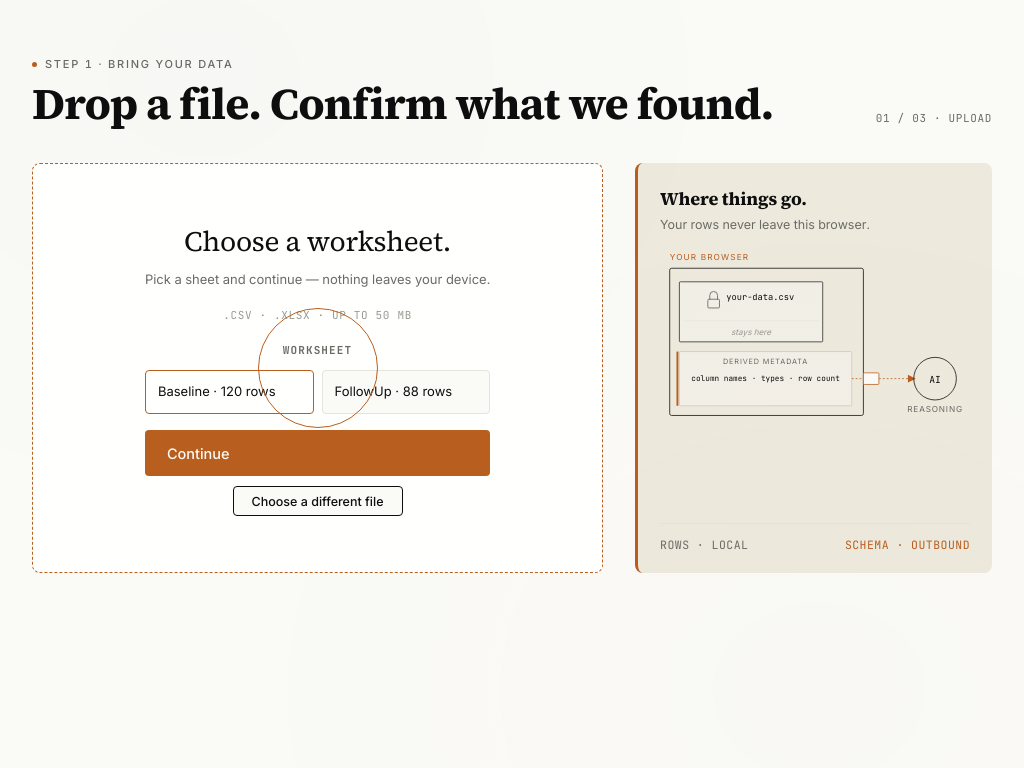
Test case: LOUPE-23 sheetSwitch — mid-flow sheet change › cancels sheet switch and keeps original sheet selected
Click the radio button labelled "FollowUp · 88 rows" at coordinates (406, 392), box [322,370,490,414]
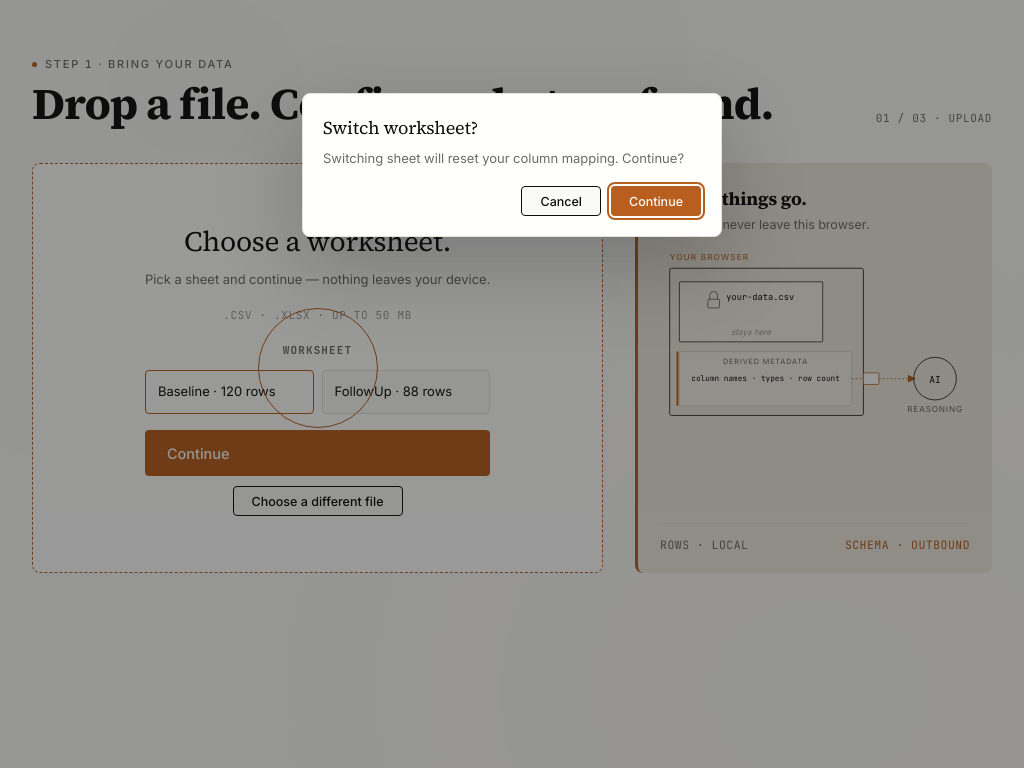
Click the button "Cancel" at coordinates (561, 201), box [522,186,601,216]
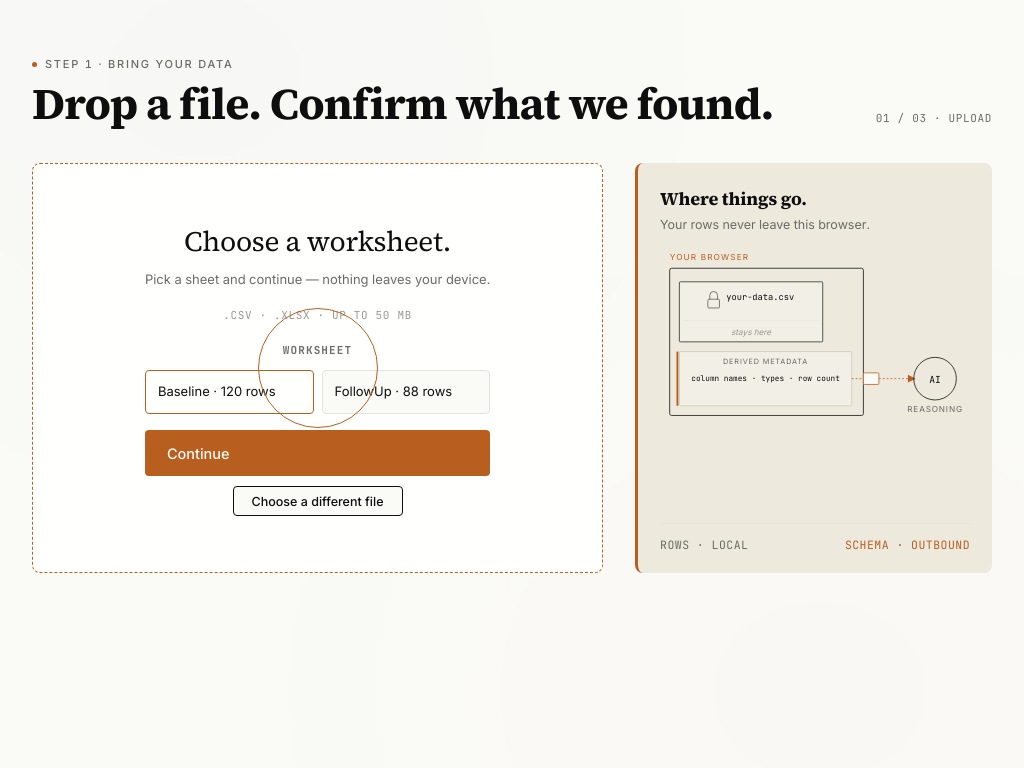
Now the dialog is gone
